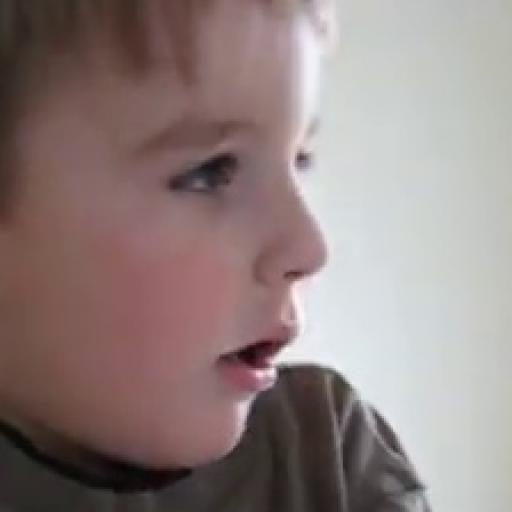Autism: (30, 9, 392, 511)
